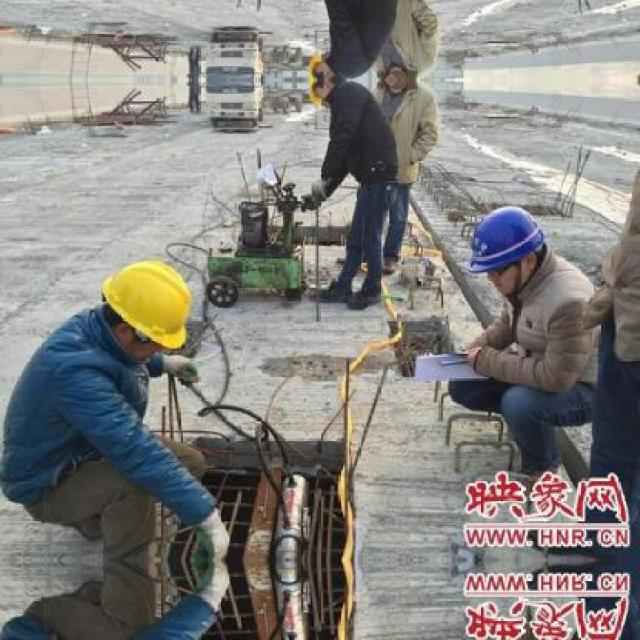helmet: (89, 251, 206, 364), (468, 197, 557, 295), (307, 80, 348, 108), (307, 52, 348, 80)
